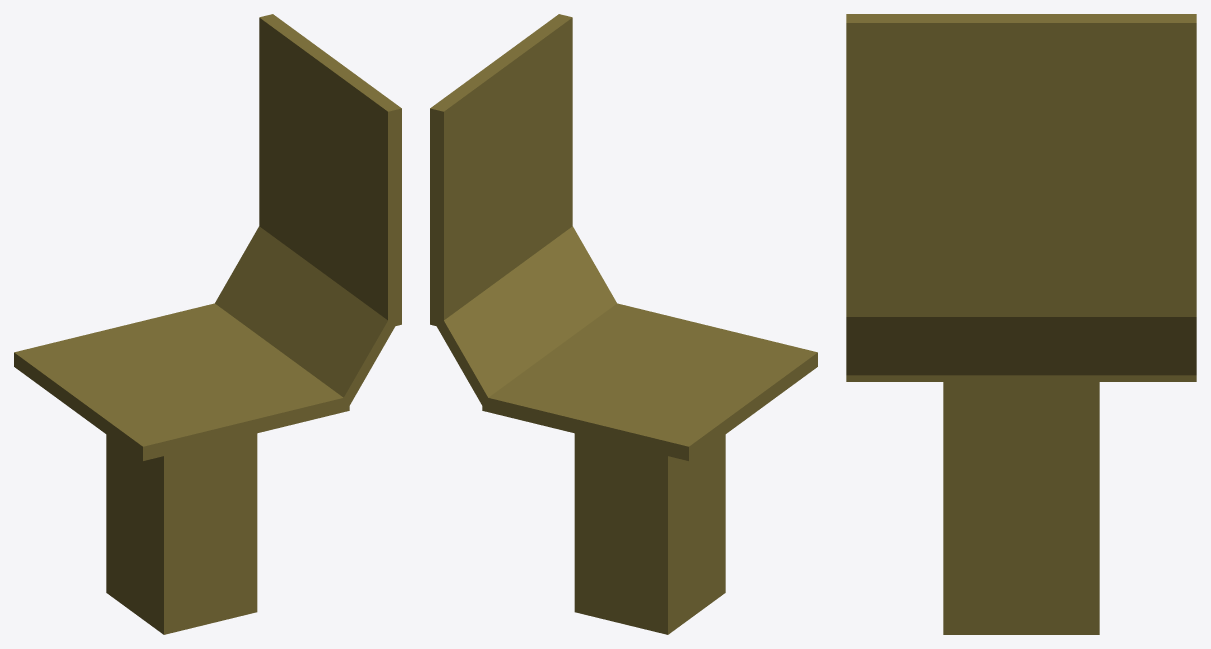
File: Seat.glb
3 views of the same model, side by side, from view 1: azimuth 30°, elevation 25°; view 2: azimuth 150°, elevation 25°; view 3: azimuth 270°, elevation 25° (orthographic). The views are drawn at different scales.
Visible parts, largest first — view 1: Cube.003; view 2: Cube.003; view 3: Cube.003.
Part boxes in pixels (x1,y1,x2,y2): Cube.003: [14, 14, 401, 634]; Cube.003: [430, 14, 817, 634]; Cube.003: [846, 14, 1196, 634].
Bounding box in the file's own units: 0.5827 × 1.08 × 0.5028.
